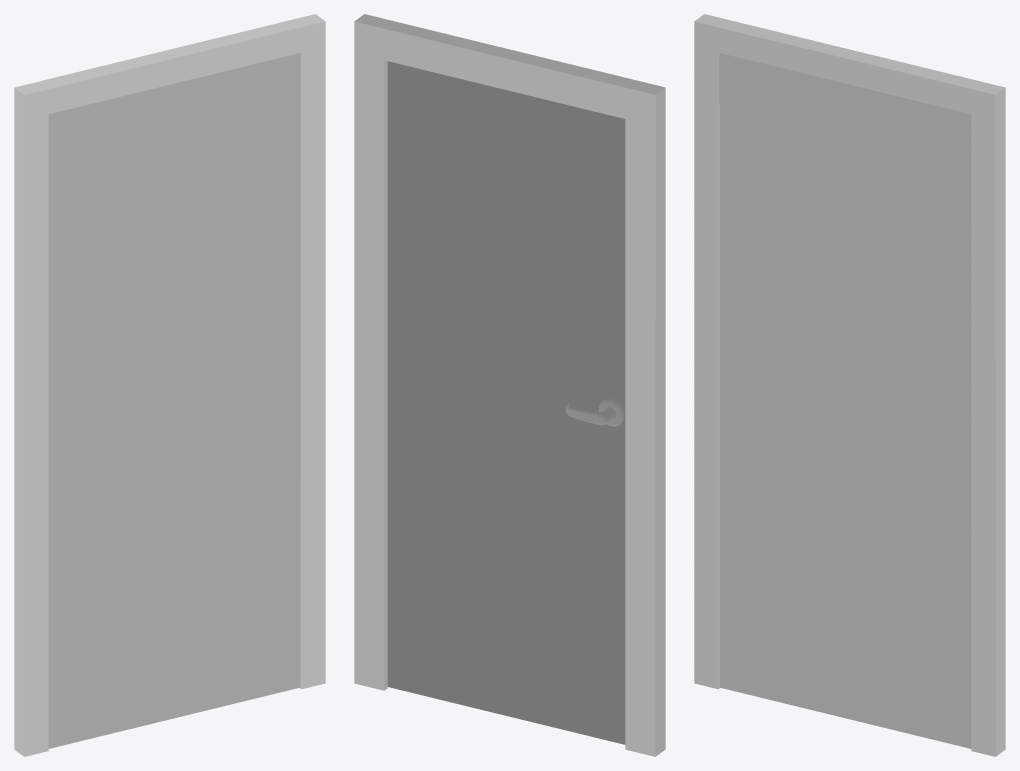
File: FP402:DoorFrame_001_7aaa80b4.obj
3 views of the same model, side by side, from view 1: azimuth 30°, elevation 25°; view 2: azimuth 150°, elevation 25°; view 3: azimuth 330°, elevation 25° (orthographic).
Parts seen in each view (by area): view 1: FP402:Door.001_fc348955, FP402:DoorFrame.001_7aaa80b4; view 2: FP402:Door.001_fc348955, FP402:DoorFrame.001_7aaa80b4, FP402:Handle_Front.001_2db417e4; view 3: FP402:Door.001_fc348955, FP402:DoorFrame.001_7aaa80b4.
Boxes of the visible parts, x1,y1,x2,y2 form: FP402:Door.001_fc348955: (48,53,300,748); FP402:DoorFrame.001_7aaa80b4: (14,14,325,756); FP402:Door.001_fc348955: (387,61,625,744); FP402:DoorFrame.001_7aaa80b4: (354,14,665,756); FP402:Handle_Front.001_2db417e4: (566,399,624,426); FP402:Door.001_fc348955: (719,53,971,748); FP402:DoorFrame.001_7aaa80b4: (694,14,1005,756).
Bounding box in the file's own units: 1 × 2.1 × 0.1064.
